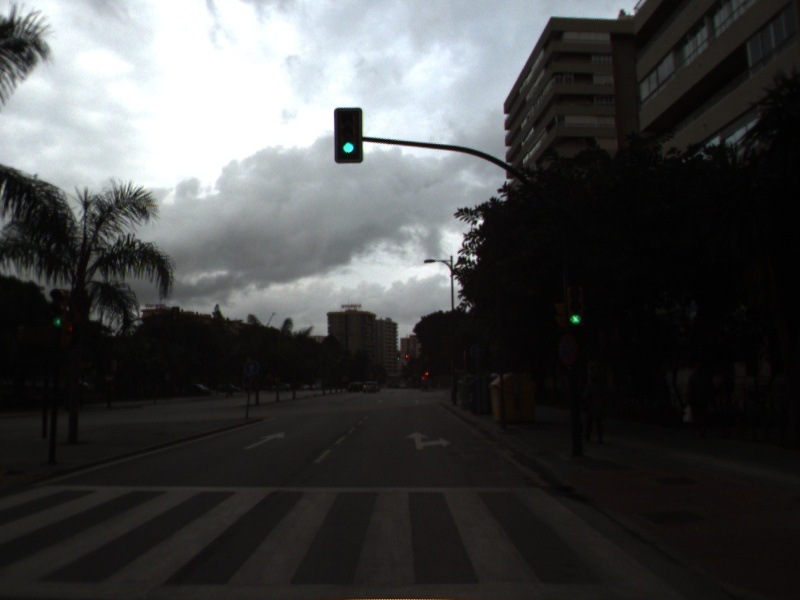STRAIGHT: (240, 429, 287, 452)
STRAIGHT_RIGHT: (403, 430, 454, 451)
